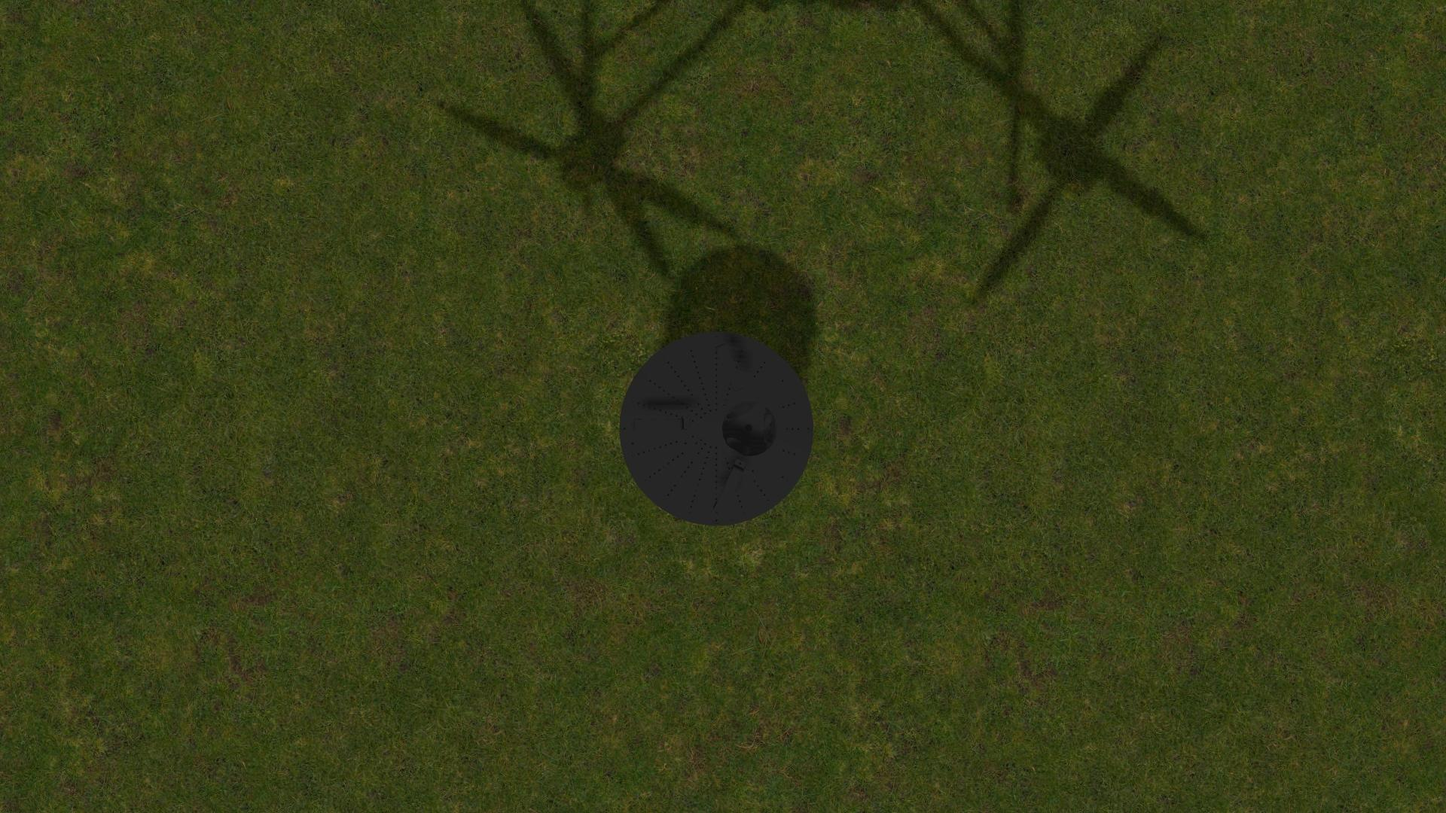alca: (711, 458, 747, 517), (713, 339, 747, 397), (630, 418, 690, 431)
armadilha: (619, 332, 814, 526)
